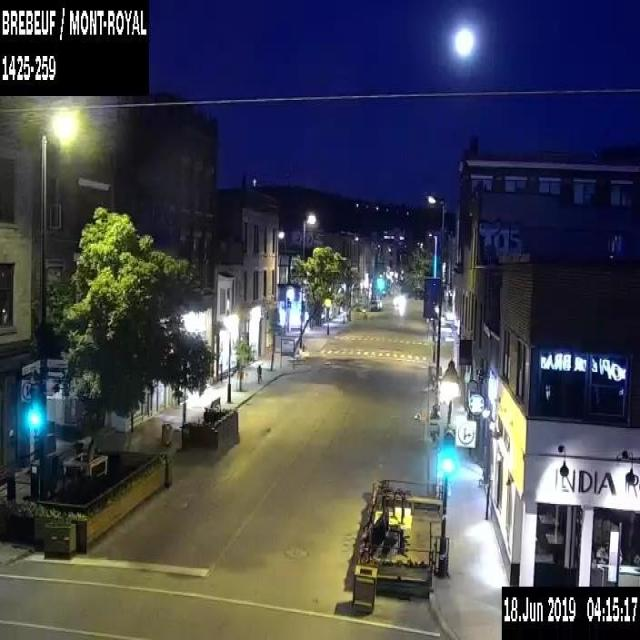vehicle: (368, 298, 381, 311)
